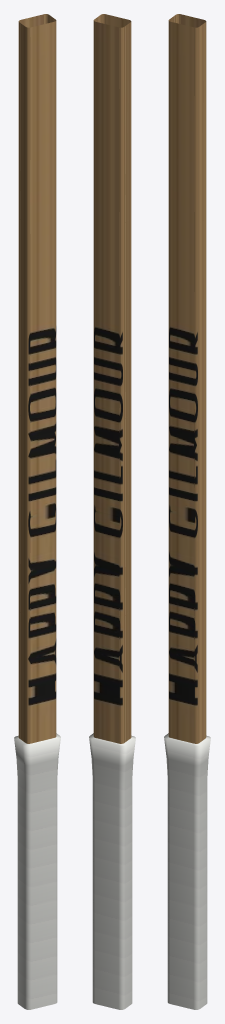
The model's file is shafts.glb.
The picture shows the model from 3 angles, left to right: view 1: azimuth 30°, elevation 25°; view 2: azimuth 150°, elevation 25°; view 3: azimuth 330°, elevation 25°; orthographic projection.
Visible parts, largest first — view 1: hshaft, hgrip; view 2: hshaft, hgrip; view 3: hshaft, hgrip.
Part boxes in pixels (x1,y1,x2,y2): hshaft: (18, 14, 56, 743); hgrip: (14, 733, 60, 1009); hshaft: (93, 14, 131, 743); hgrip: (89, 733, 135, 1009); hshaft: (168, 14, 206, 743); hgrip: (164, 733, 210, 1009).
Bounding box in the file's own units: 0.0401 × 1 × 0.0248.
2 materials, 2 textured.
